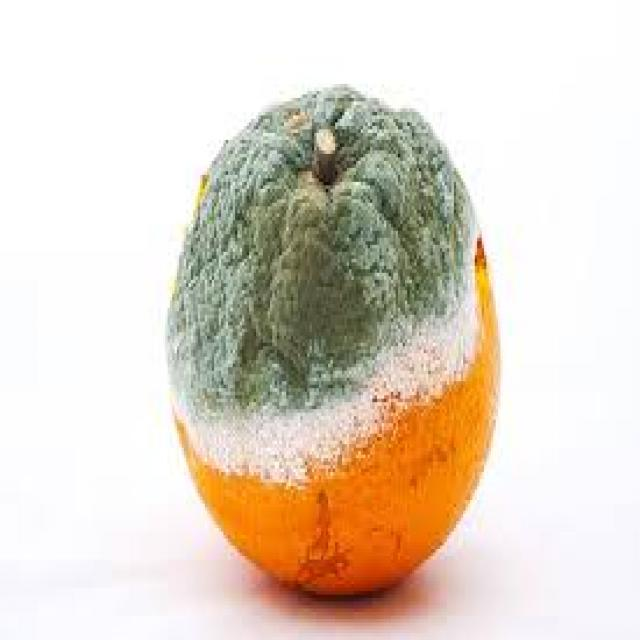organic waste: (165, 91, 498, 591)
